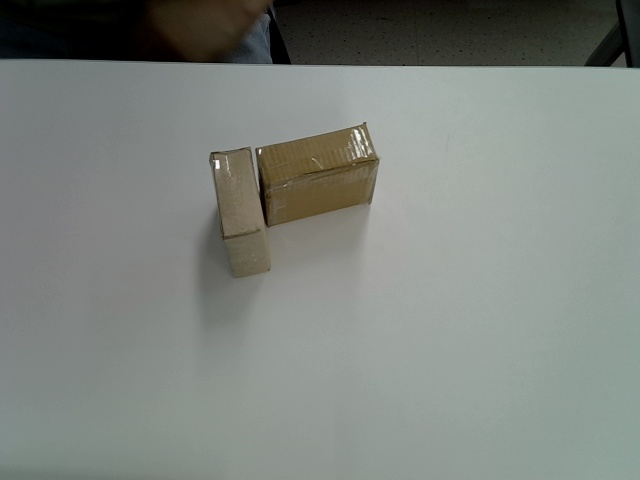normal: (256, 121, 380, 227), (209, 147, 273, 278)
